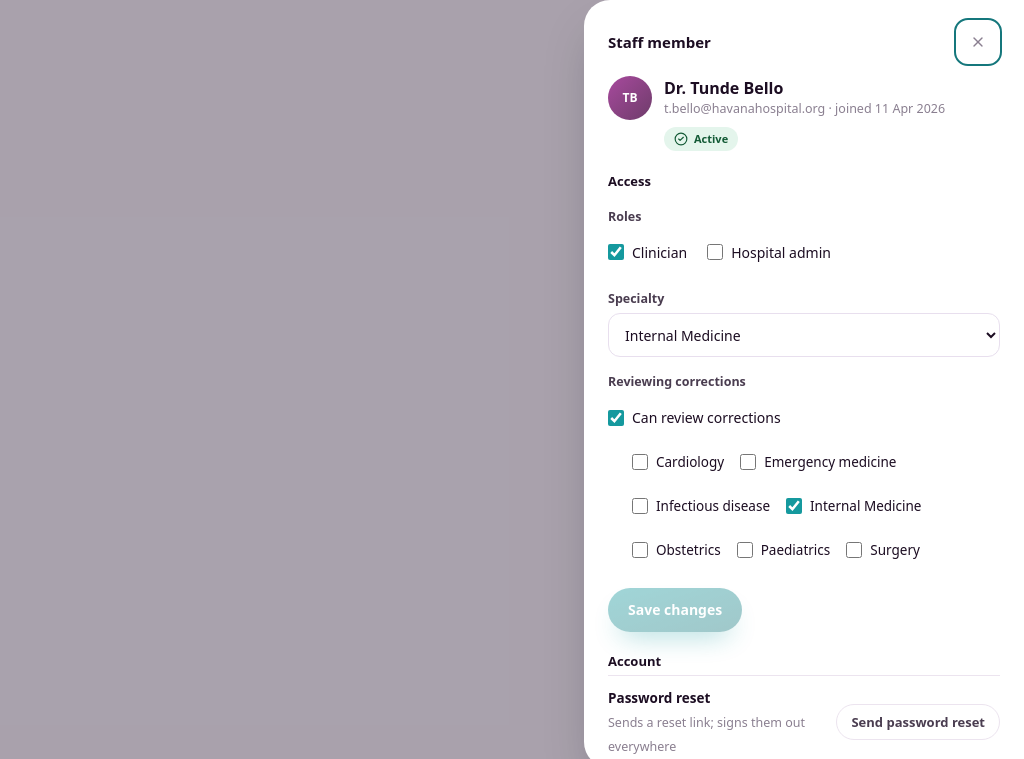
Scenario: StaffPanel › shows the latest after a conflict (Review Focus 2)
Select "Surgery" in the dropdown labelled "Specialty". click: coordinates (804, 335)
box: x1=608 y1=313 x2=1000 y2=357
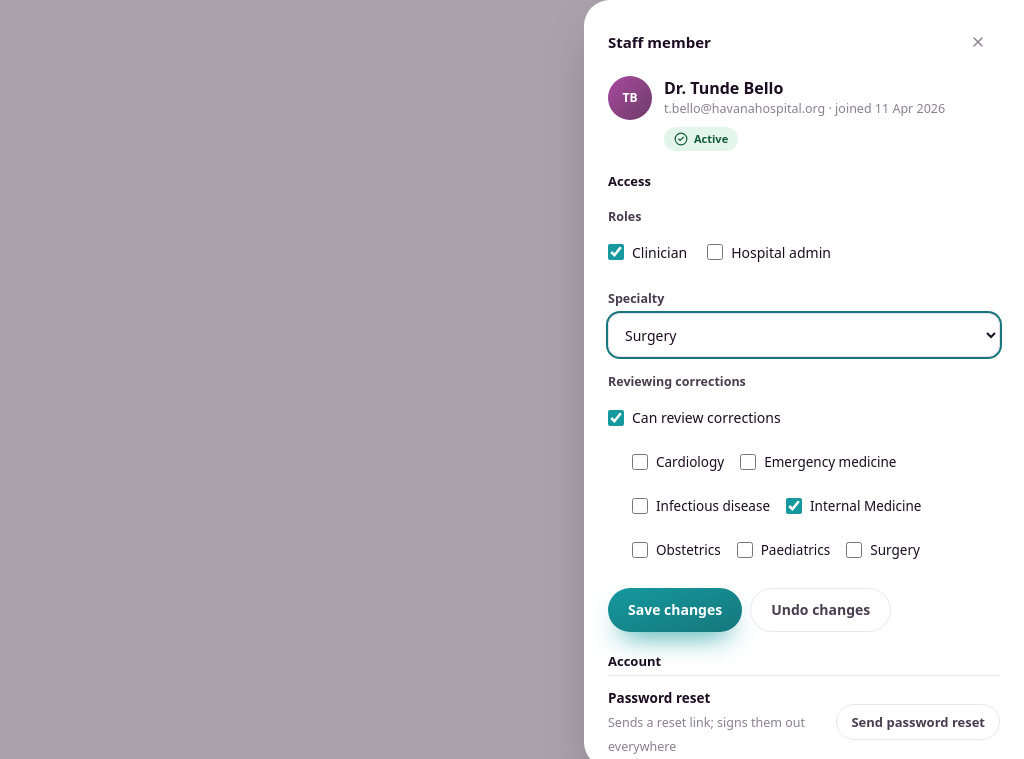
Click the button "Save changes". click: coordinates (675, 610)
box: x1=608 y1=588 x2=742 y2=632
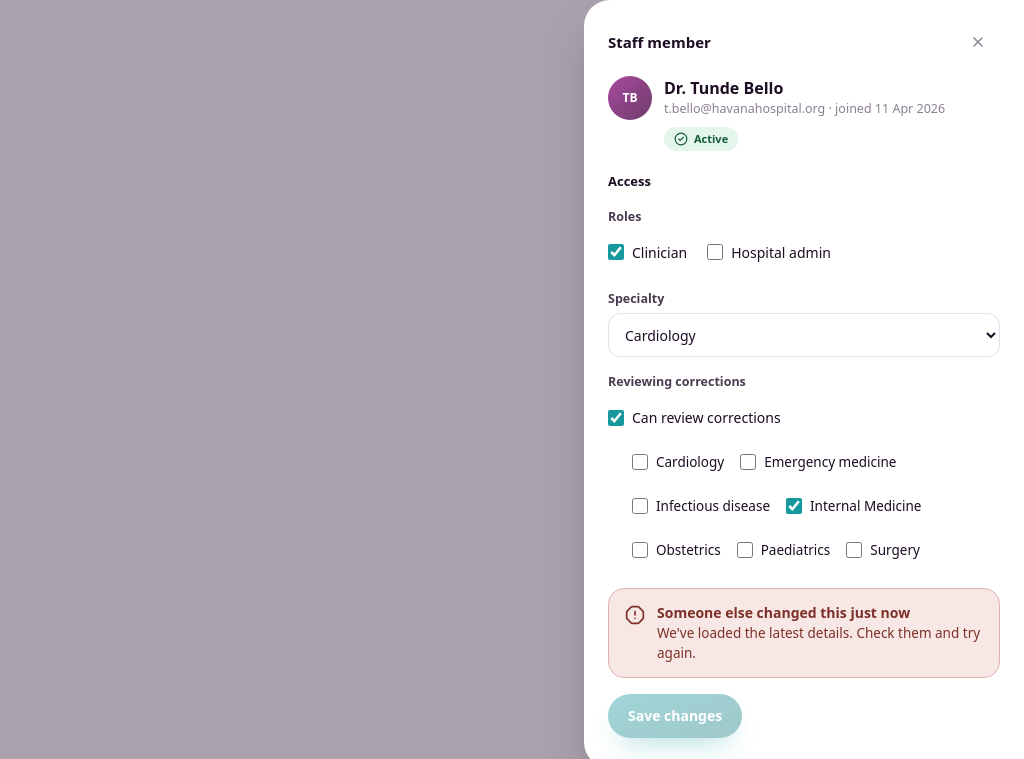
Expected: the text "Someone else changed this just now" is shown, x1=657 y1=603 x2=910 y2=622
